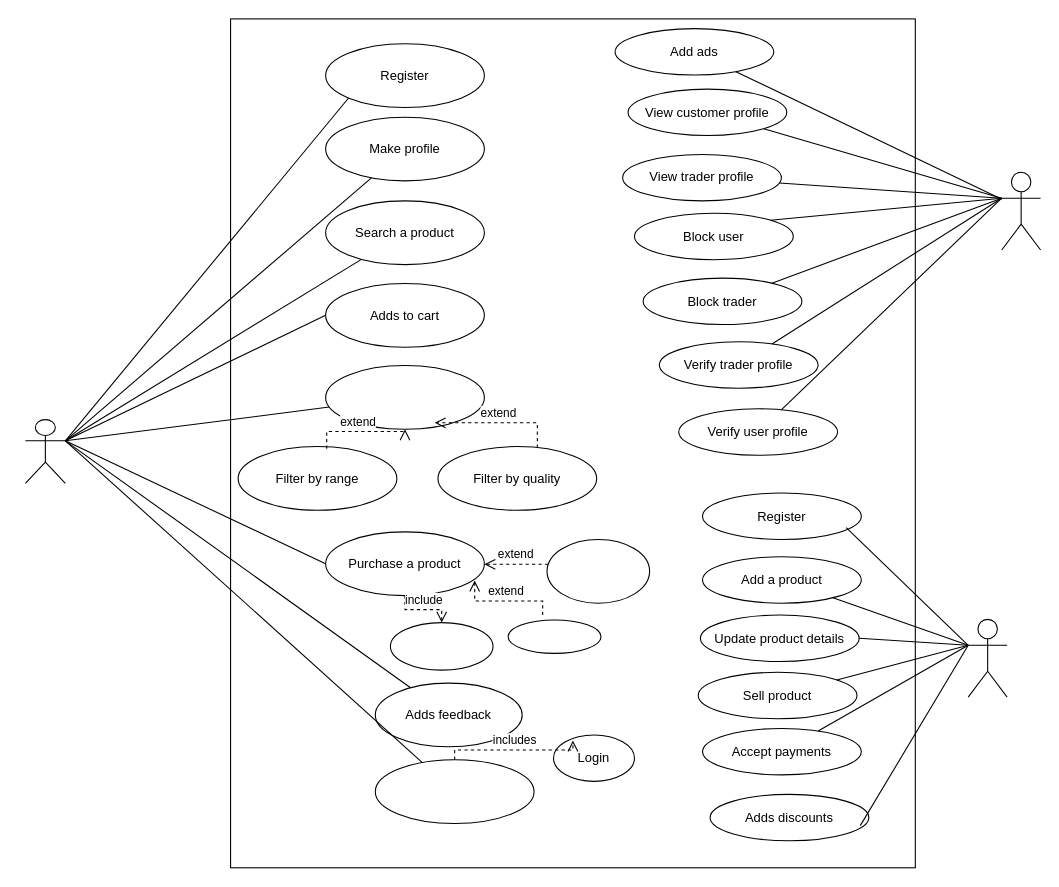
Some shapes in this 1059 by 887 pixel diagram are drawn without their labels. The shapes that lost their labels are listed below. From the top down, each one's centre as x and y in pixels, then its label:
At point (1021, 210): "admin".
At point (404, 396): "Filter search".
At point (44, 450): "customer".
At point (598, 570): "Pay on delivery".
At point (441, 646): "Gift wrap item".
At point (554, 636): "Pay by card".
At point (987, 657): "trader".
At point (454, 791): "Checks order status".
